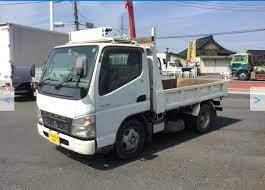Truck: (35, 28, 223, 162)
